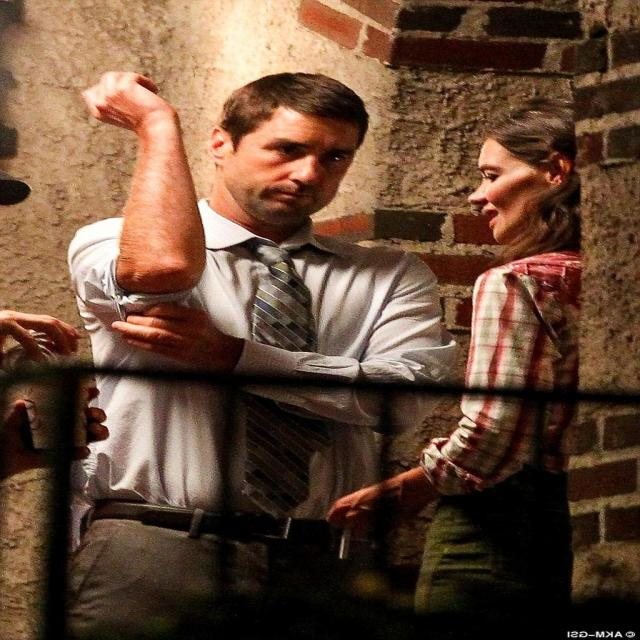smoking: (320, 92, 589, 578)
